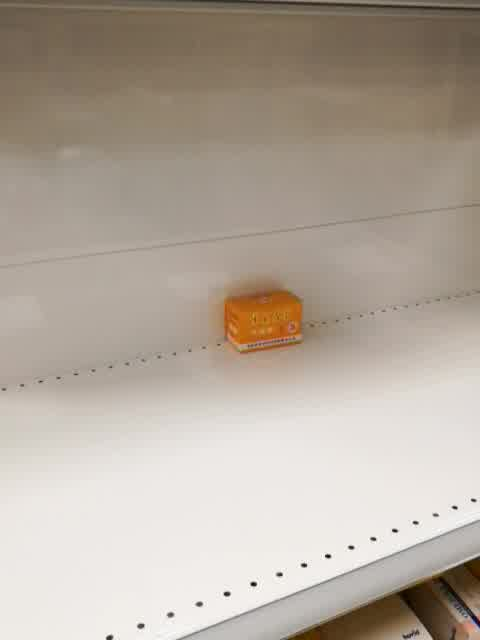jasminetea: (222, 288, 305, 356)
